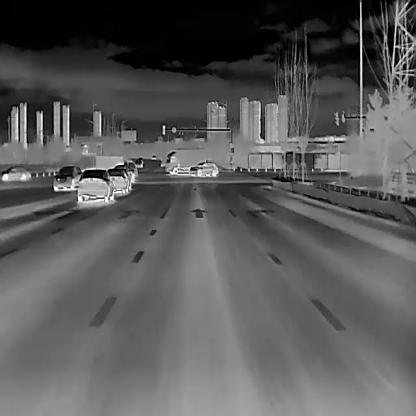car: (76, 167, 113, 202), (52, 164, 81, 190), (107, 168, 132, 194), (0, 164, 29, 180), (189, 160, 218, 176), (135, 158, 143, 166), (150, 153, 156, 159)
truck: (164, 146, 206, 175), (86, 155, 122, 170)
